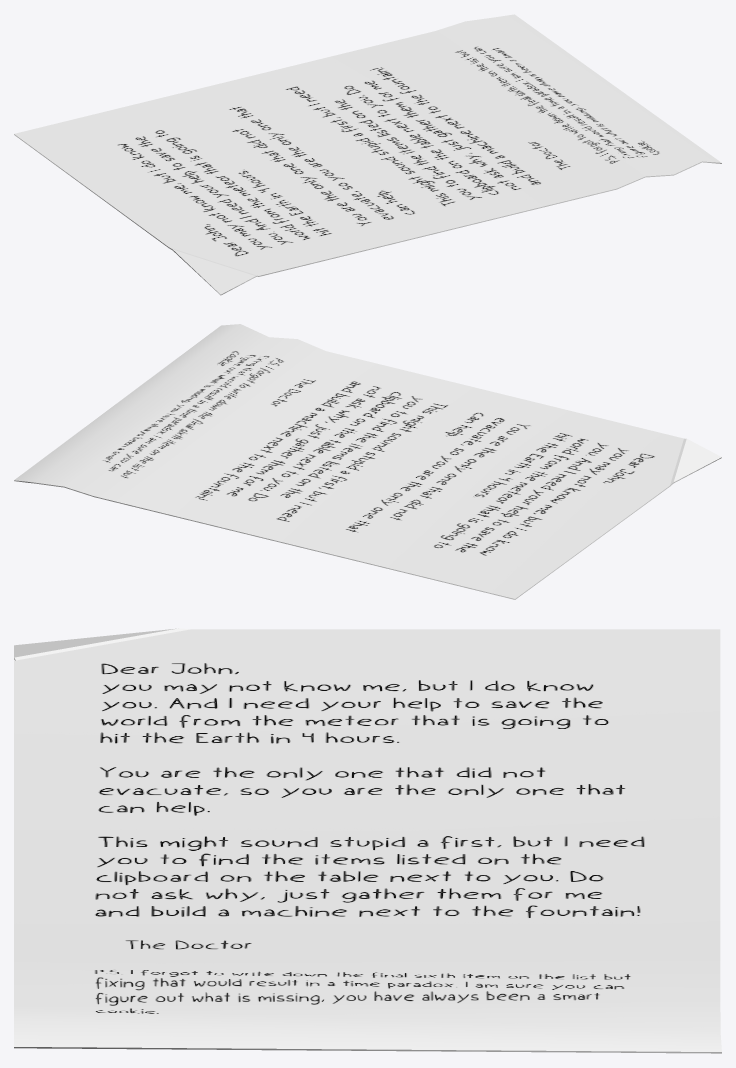
The model's file is Letter_New.fbx.
The picture shows the model from 3 angles, top to bottom: view 1: azimuth 30°, elevation 25°; view 2: azimuth 150°, elevation 25°; view 3: azimuth 270°, elevation 25°; orthographic projection. The views are drawn at different scales.
Visible parts, largest first — view 1: Letter; view 2: Letter; view 3: Letter.
Boxes of the visible parts, box(x1,y1,x2,y2) form: Letter: box(14, 14, 721, 295); Letter: box(14, 324, 721, 599); Letter: box(14, 628, 721, 1053).
Size of the model in its own units: 21.96 by 0.6992 by 15.73.
